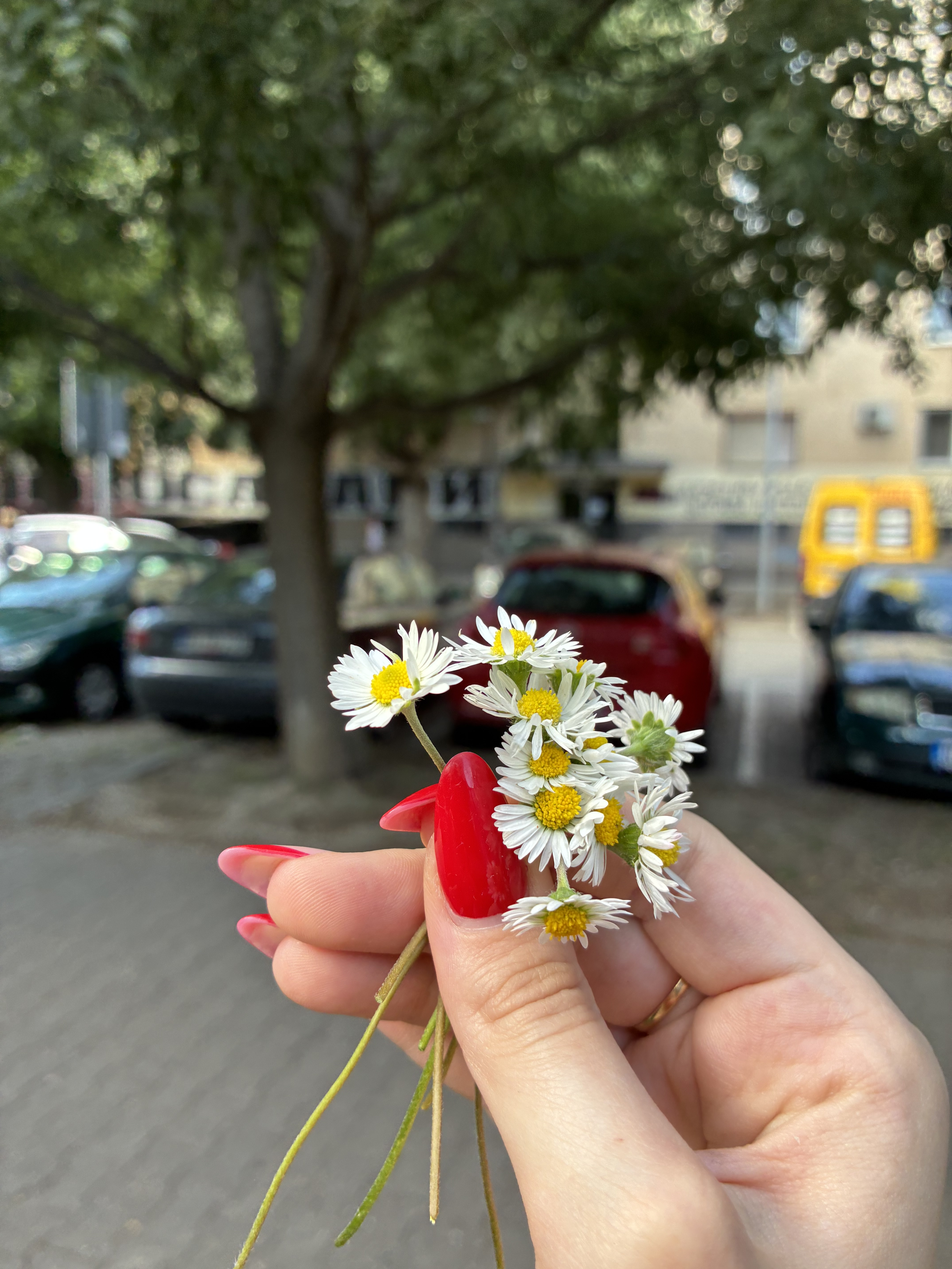daisy: (318, 613, 468, 743), (464, 665, 615, 762), (488, 766, 620, 873), (604, 688, 711, 799), (435, 601, 585, 677), (635, 772, 704, 922), (494, 882, 638, 949), (487, 725, 609, 794), (565, 775, 634, 887), (517, 645, 630, 712)
